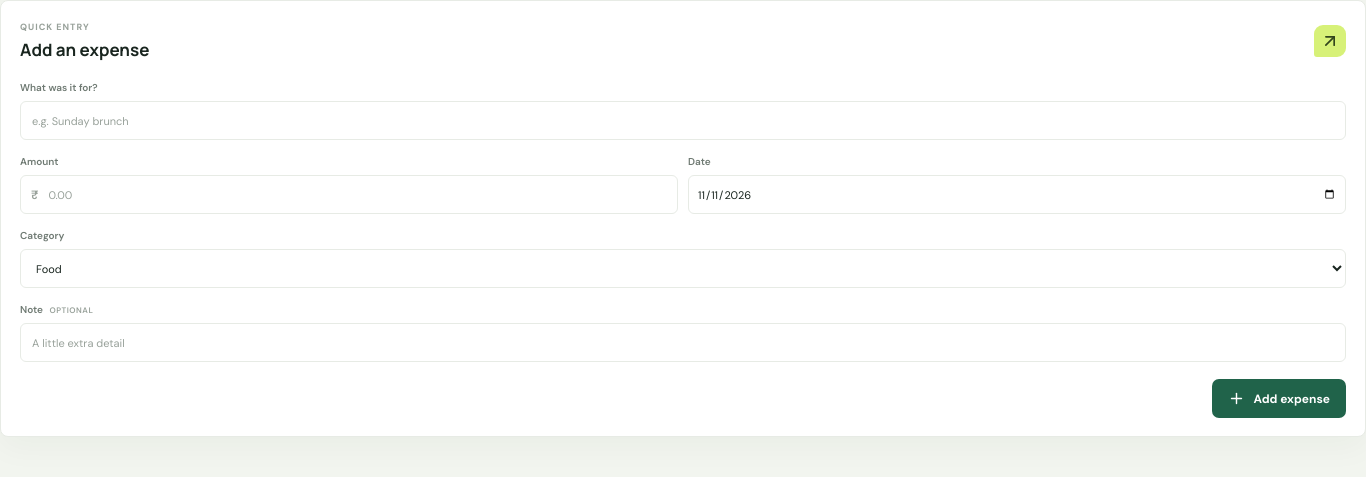
Test case: ExpenseForm › rejects amount 0
Type "Coffee" into the field labelled "What was it for?" at (683, 120), box [20,101,1346,140]
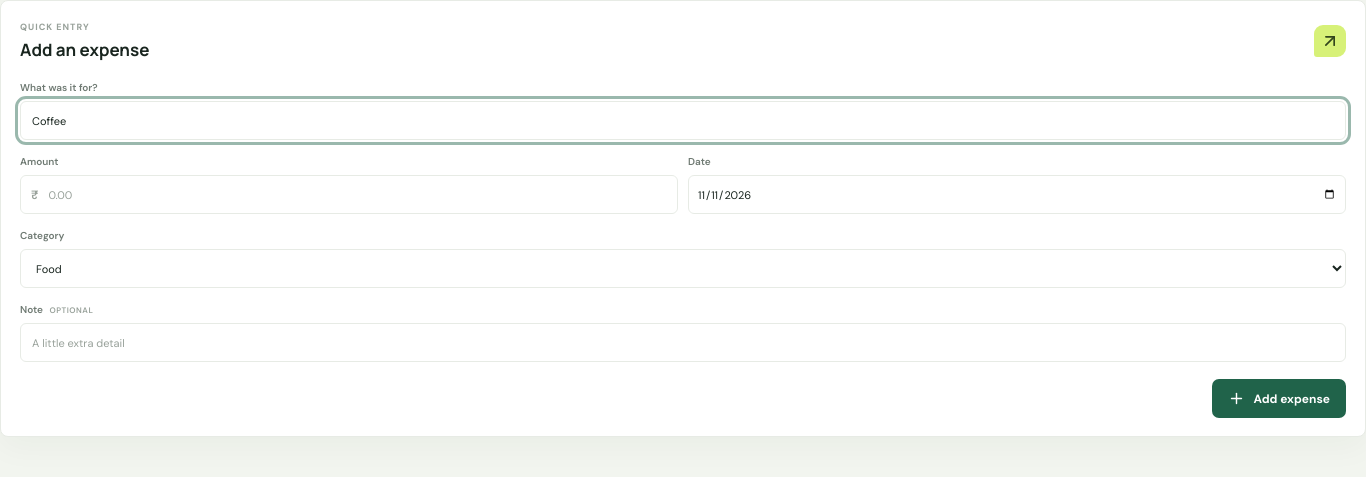
Type "0" into the field with placeholder "0.00" at (354, 194), box [40,177,667,212]
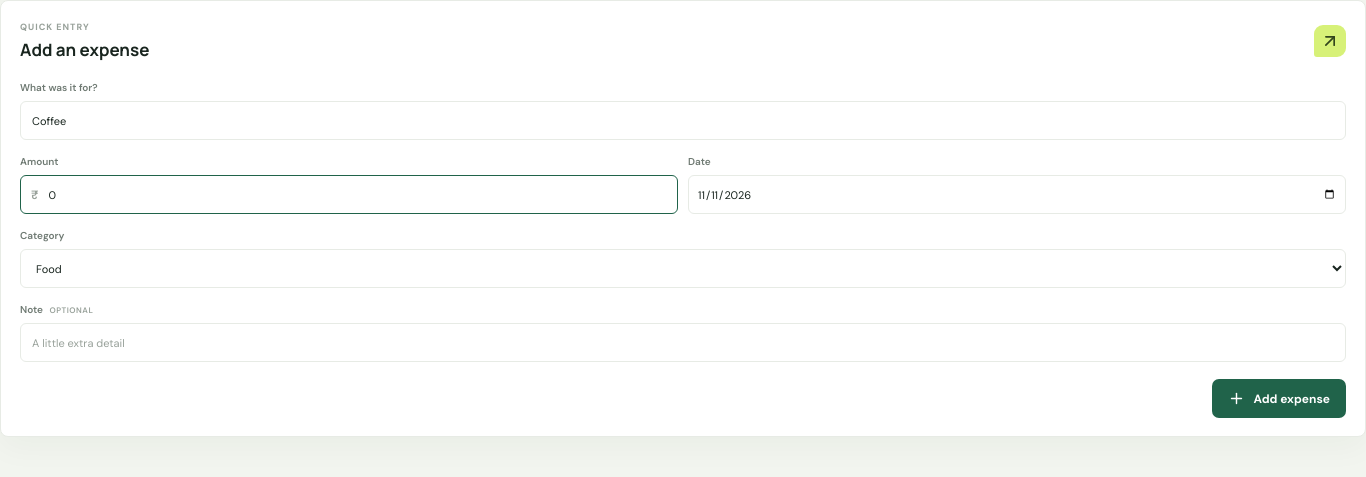
Click the button "Add expense" at (1279, 398), box [1212,379,1346,418]
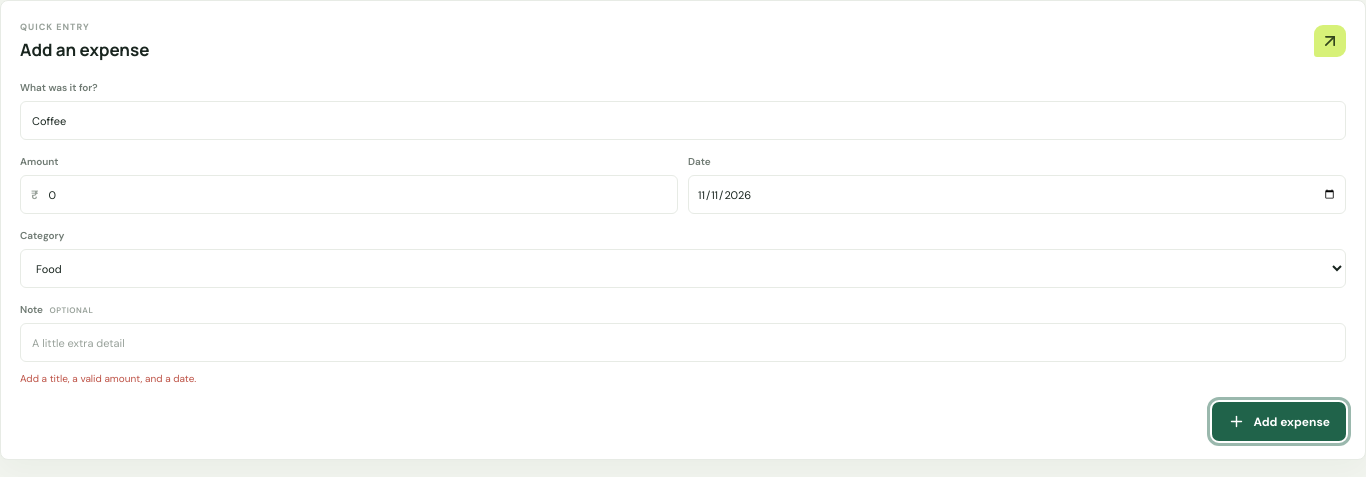
Expected: the message "Add a title, a valid amount, and a date." is shown, [20,372,196,385]
